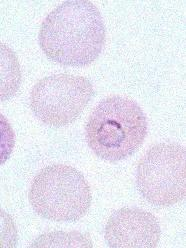Infected: (84, 95, 149, 160)
Uninfected: (37, 0, 105, 66), (29, 164, 93, 220), (29, 74, 94, 127), (136, 142, 186, 206), (106, 208, 162, 248)
